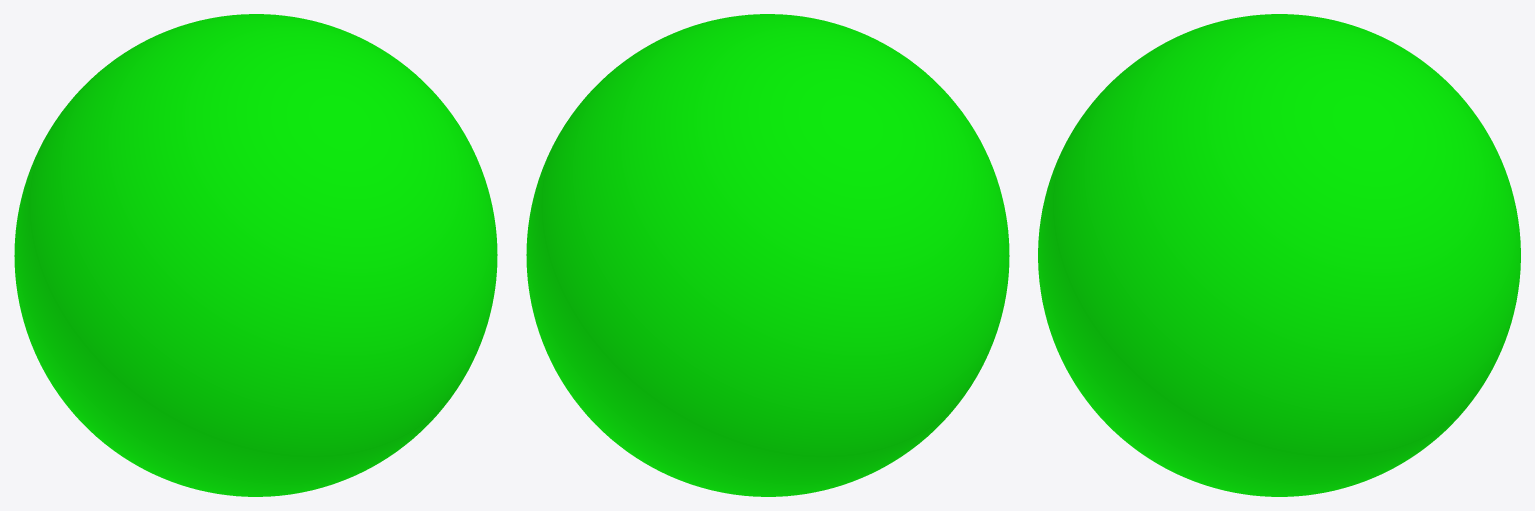
The model's file is shader.gltf.
The picture shows the model from 3 angles, left to right: view 1: azimuth 30°, elevation 25°; view 2: azimuth 150°, elevation 25°; view 3: azimuth 270°, elevation 25°; orthographic projection.
Visible parts, largest first — view 1: Icosahedron 1; view 2: Icosahedron 1; view 3: Icosahedron 1.
Boxes of the visible parts, <box> form: Icosahedron 1: <box>14,14,497,496</box>; Icosahedron 1: <box>526,14,1009,496</box>; Icosahedron 1: <box>1038,14,1520,496</box>.
Bounding box in the file's own units: 2 × 2 × 2.
